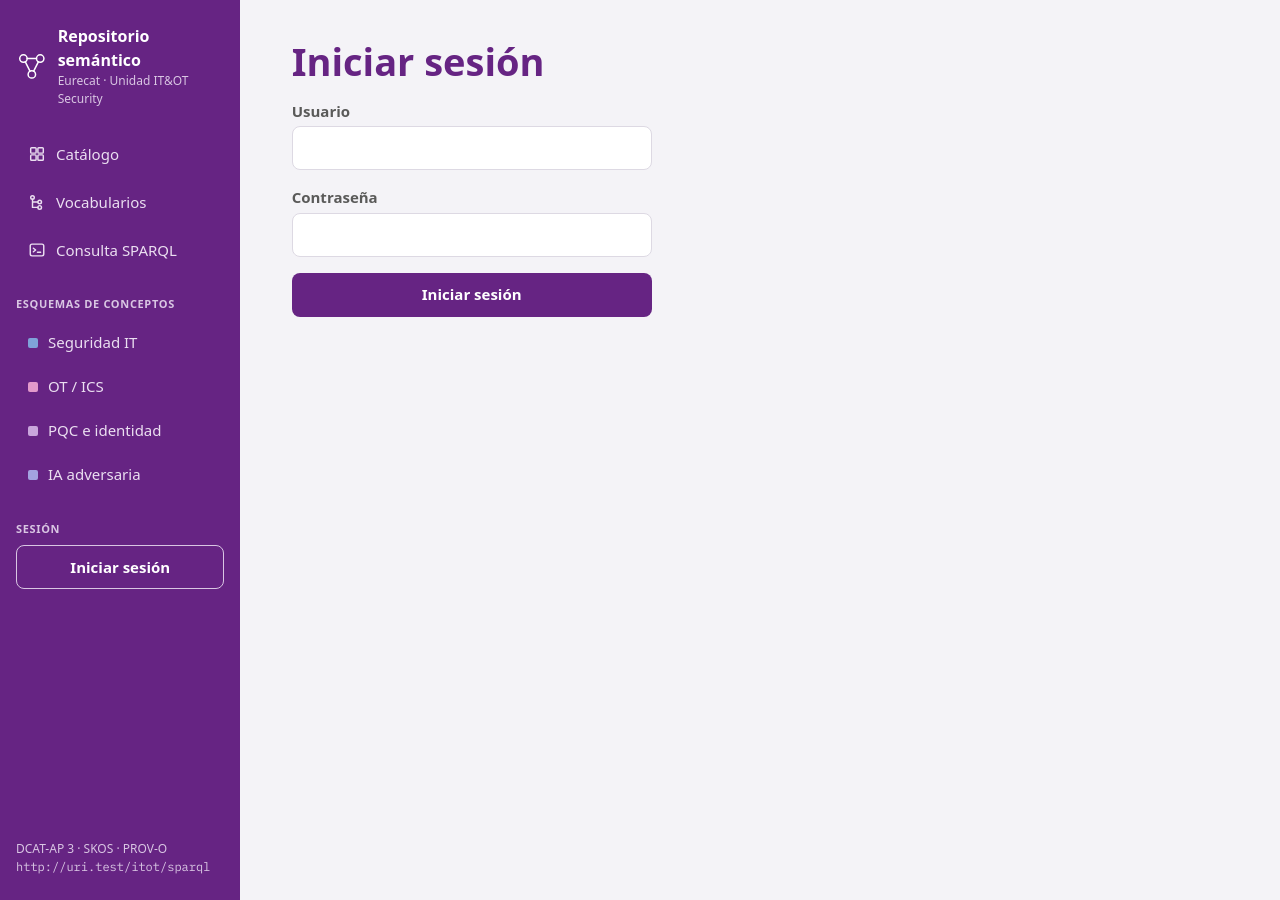
Scenario: Login › cierra la sesión y vuelve al estado anónimo
The width and height of the screenshot is (1280, 900).
Type "usuario-prueba" into the field labelled "Usuario" at [472, 148], box x1=292 y1=126 x2=652 y2=170
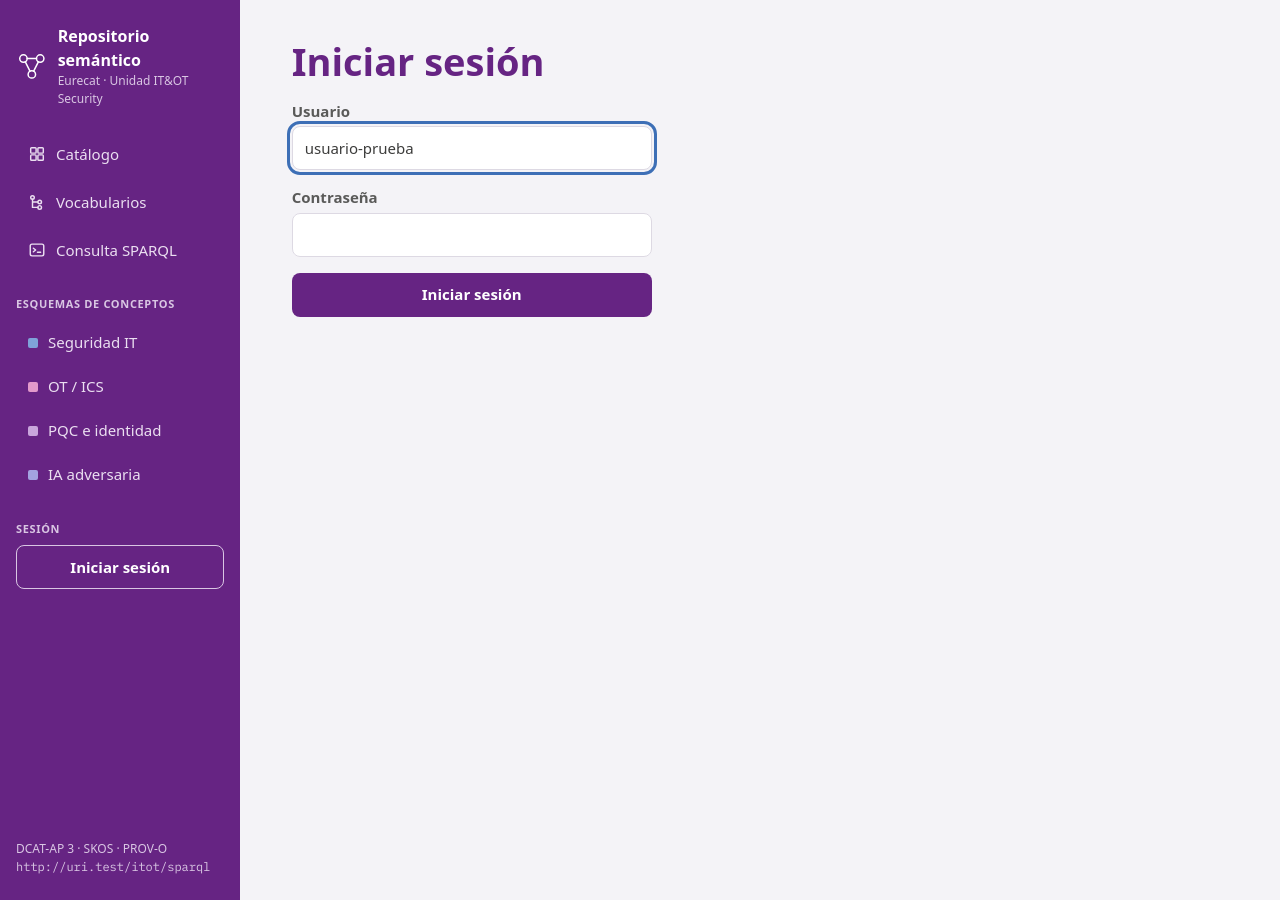
Type "clave-prueba" into the password field labelled "Contraseña" at [472, 235], box x1=292 y1=213 x2=652 y2=257
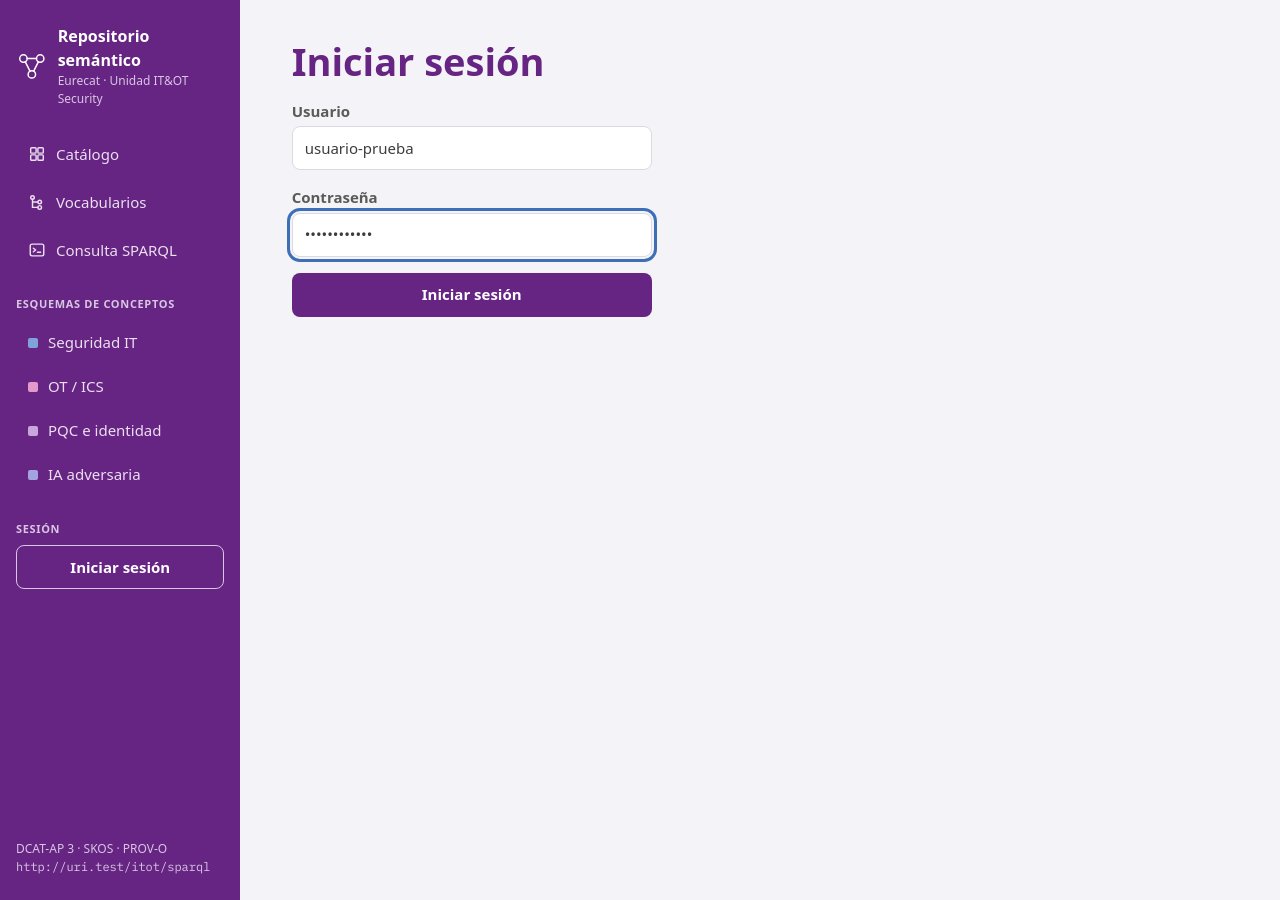
Click the button "Iniciar sesión" at [472, 295], box x1=292 y1=273 x2=652 y2=317
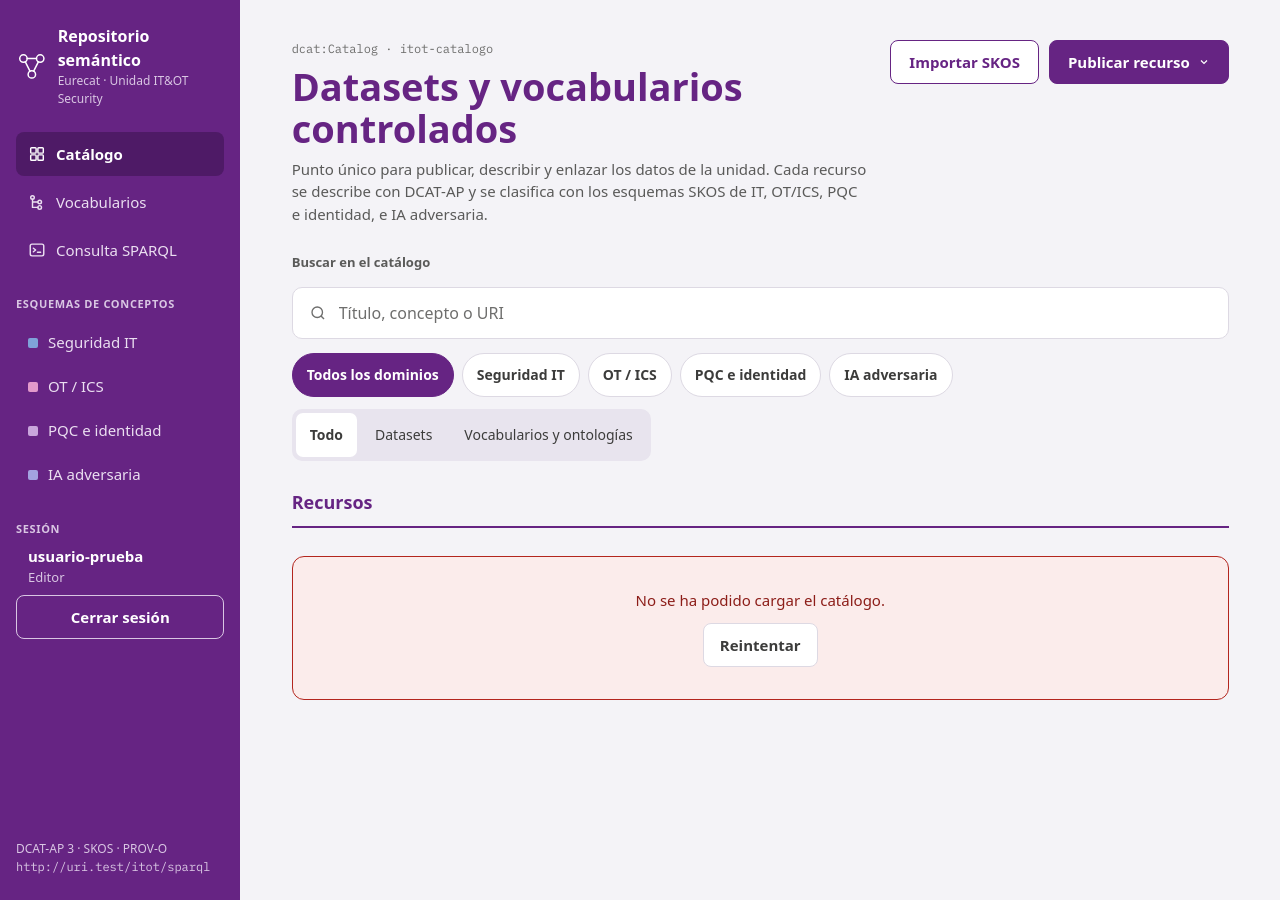
Check: the text "usuario-prueba" is shown, box x1=28 y1=546 x2=143 y2=566
Click the button "Cerrar sesión" at [120, 617], box x1=16 y1=595 x2=224 y2=639
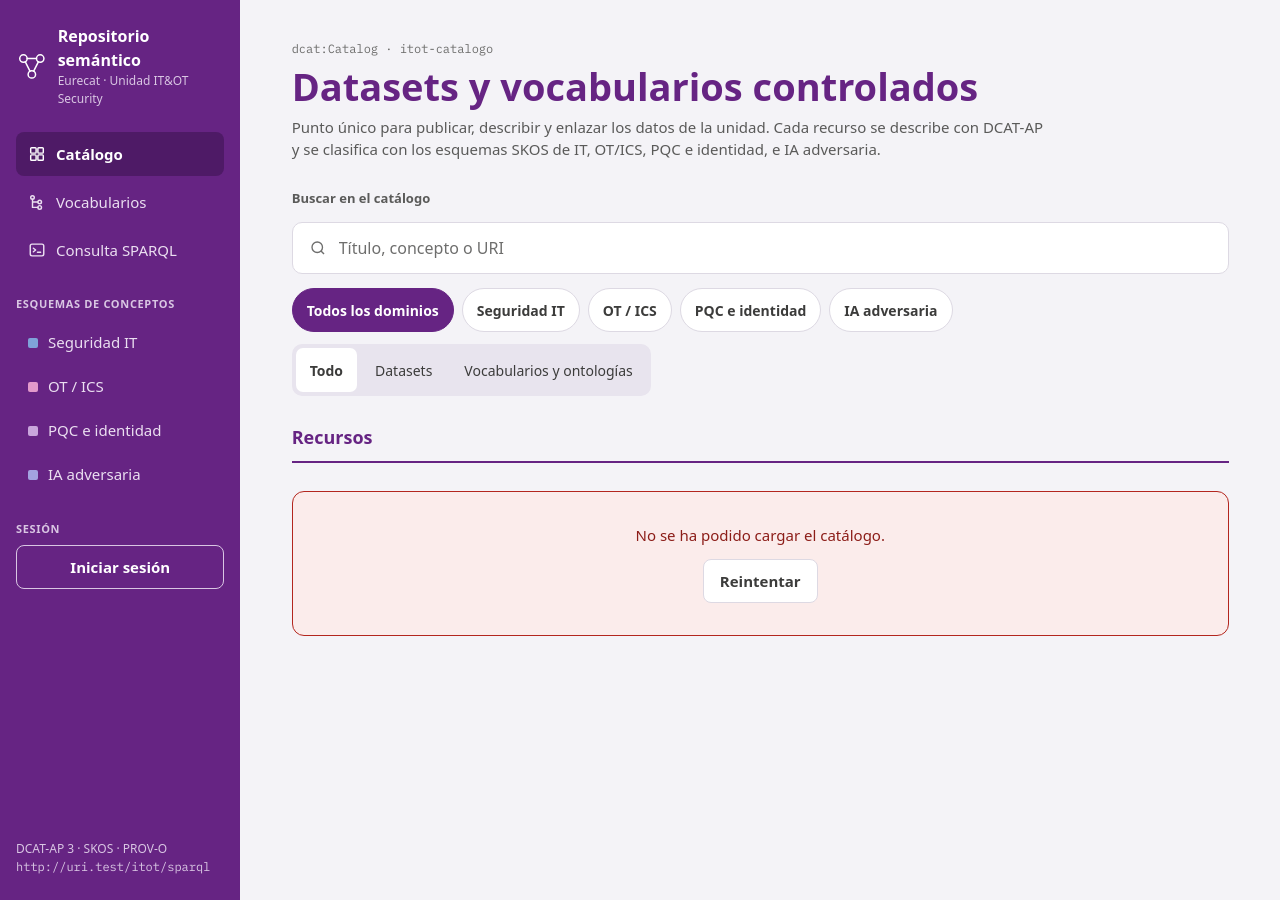
Check: the text "usuario-prueba" is gone
Check: the button "Cerrar sesión" is gone
Check: the link "Iniciar sesión" is shown, box x1=16 y1=545 x2=224 y2=589
